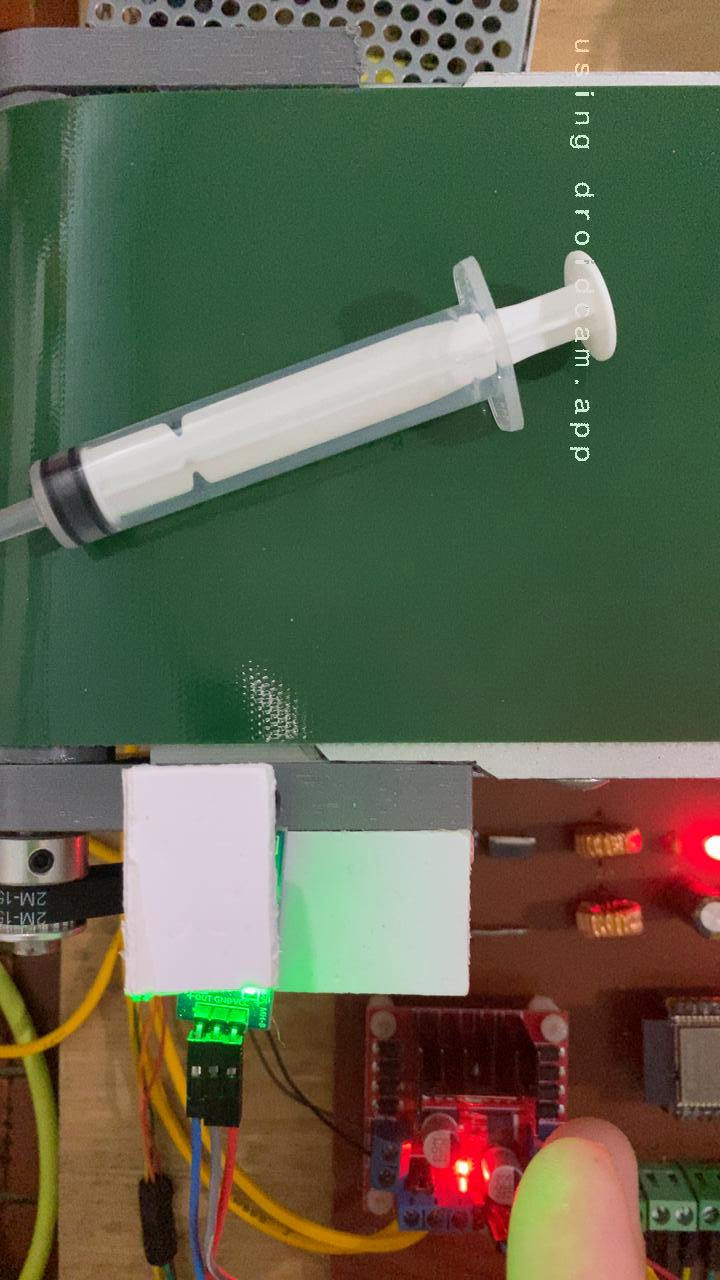syringe: (0, 243, 626, 557)
